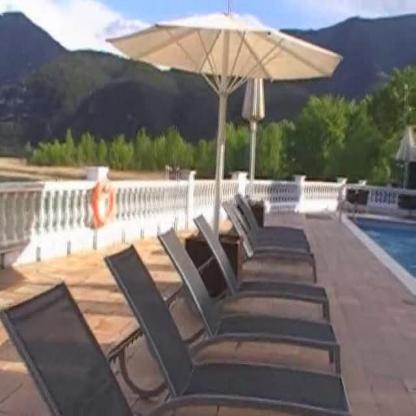other: (43, 182, 198, 224)
